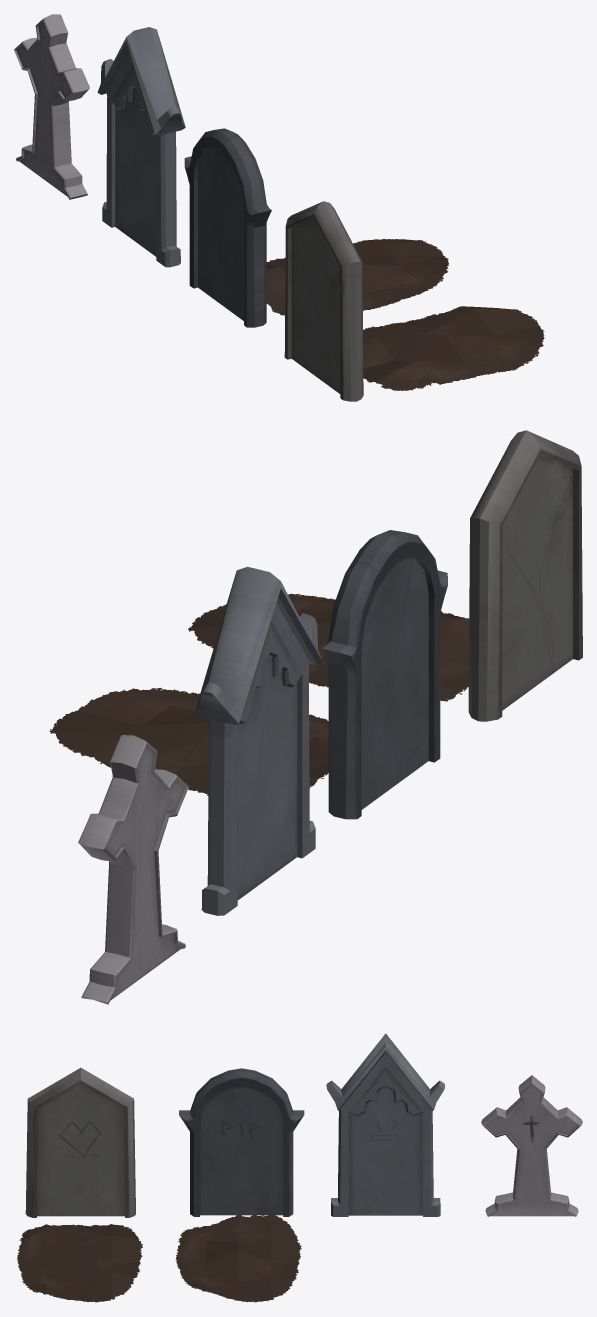
Rendered from Graves.fbx.
The picture shows the model from 3 angles, top to bottom: view 1: azimuth 30°, elevation 25°; view 2: azimuth 150°, elevation 25°; view 3: azimuth 270°, elevation 25°; orthographic projection. The views are drawn at different scales.
Parts seen in each view (by area): view 1: Grave2, Grave1, Grave4, Dirt1, Grave3, Dirt2; view 2: Grave2, Grave1, Grave4, Grave3, Dirt2, Dirt1; view 3: Grave2, Grave4, Grave1, Dirt2, Dirt1, Grave3.
Part boxes in pixels (x1=…): Grave2: x1=97, y1=27, x2=185, y2=267; Grave1: x1=184, y1=128, x2=271, y2=327; Grave4: x1=284, y1=201, x2=363, y2=401; Dirt1: x1=363, y1=306, x2=544, y2=390; Grave3: x1=14, y1=14, x2=89, y2=199; Dirt2: x1=266, y1=239, x2=448, y2=315; Grave2: x1=194, y1=566, x2=322, y2=915; Grave1: x1=321, y1=530, x2=447, y2=819; Grave4: x1=468, y1=430, x2=582, y2=721; Grave3: x1=78, y1=735, x2=188, y2=1004; Dirt2: x1=49, y1=688, x2=328, y2=795; Dirt1: x1=188, y1=593, x2=469, y2=701; Grave2: x1=326, y1=1033, x2=444, y2=1216; Grave4: x1=25, y1=1067, x2=135, y2=1217; Grave1: x1=179, y1=1068, x2=304, y2=1216; Dirt2: x1=175, y1=1213, x2=301, y2=1302; Dirt1: x1=17, y1=1224, x2=142, y2=1302; Grave3: x1=481, y1=1075, x2=582, y2=1216.
Size of the model in its own units: 92.95 by 84.53 by 236.
